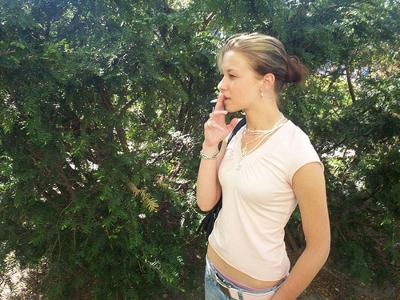person: (194, 33, 334, 300)
